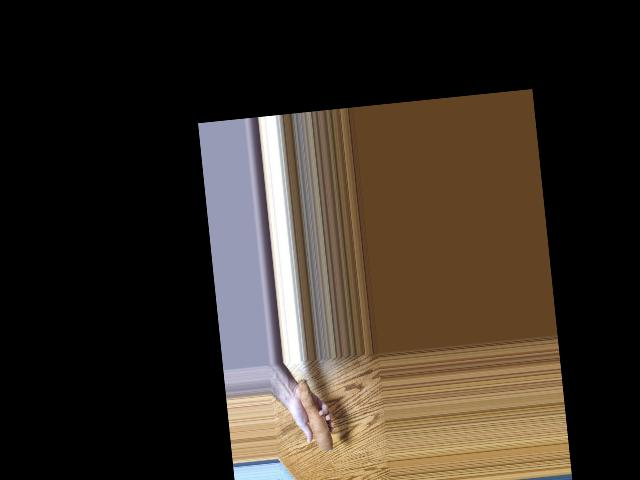sweet_potato: (296, 369, 336, 453)
